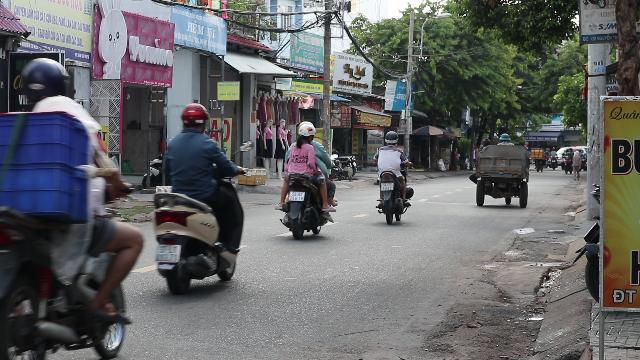helmet: (16, 58, 68, 109), (178, 102, 210, 132), (296, 120, 314, 140), (384, 131, 398, 146)
licenseplate: (155, 244, 179, 262), (288, 192, 304, 200), (381, 182, 394, 190)
motorcyclist: (0, 55, 144, 359), (148, 101, 246, 295), (275, 120, 337, 238), (372, 130, 414, 224)
